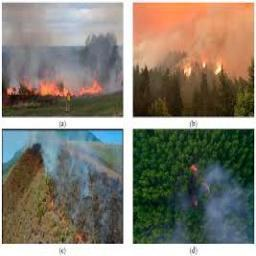Low smoke: (2, 5, 120, 81), (38, 134, 110, 204), (203, 167, 249, 244)
Medium fire: (178, 48, 224, 85)
Small fire: (11, 78, 104, 98), (186, 162, 212, 207)
